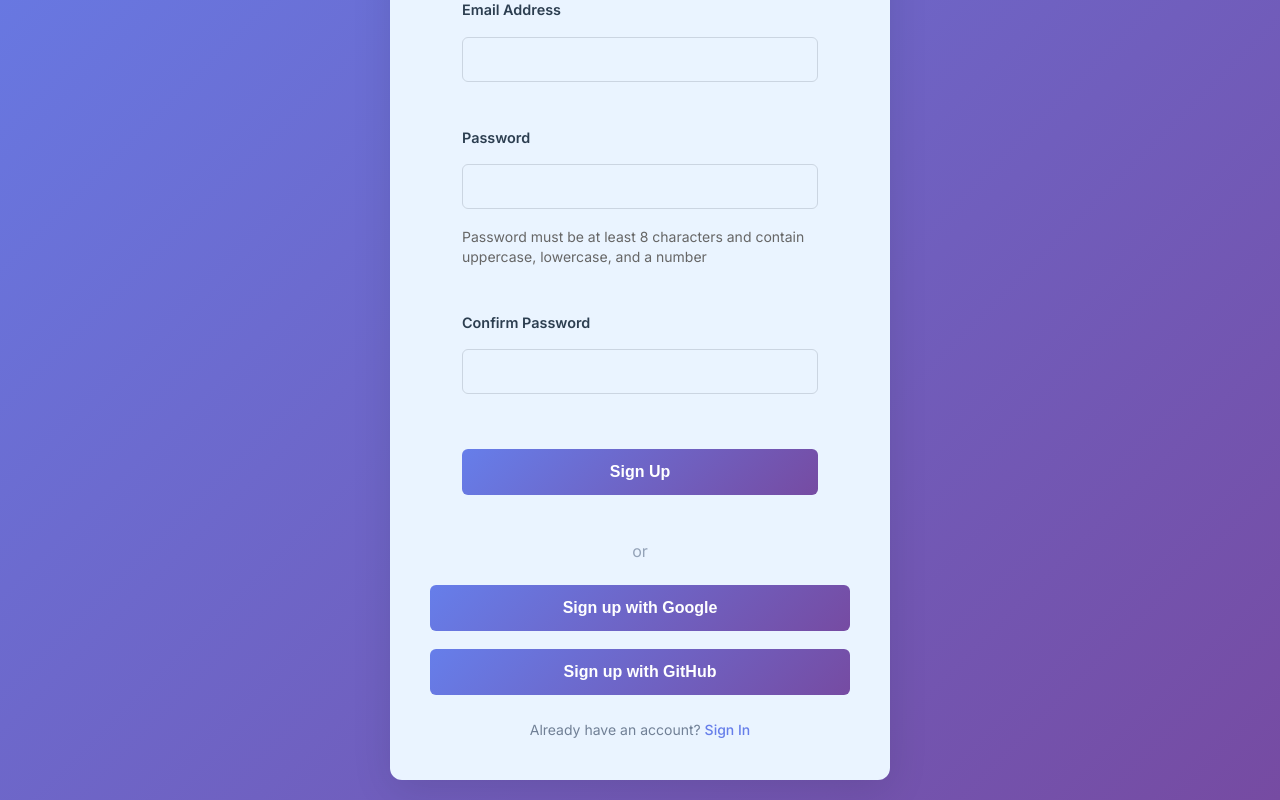
it: Register › shows fallback error for unexpected oauth failure
This screenshot has width=1280, height=800.
(page scrolled)
Click the button "Sign up with Google".
click(640, 608)  # box 430,585 -> 850,631
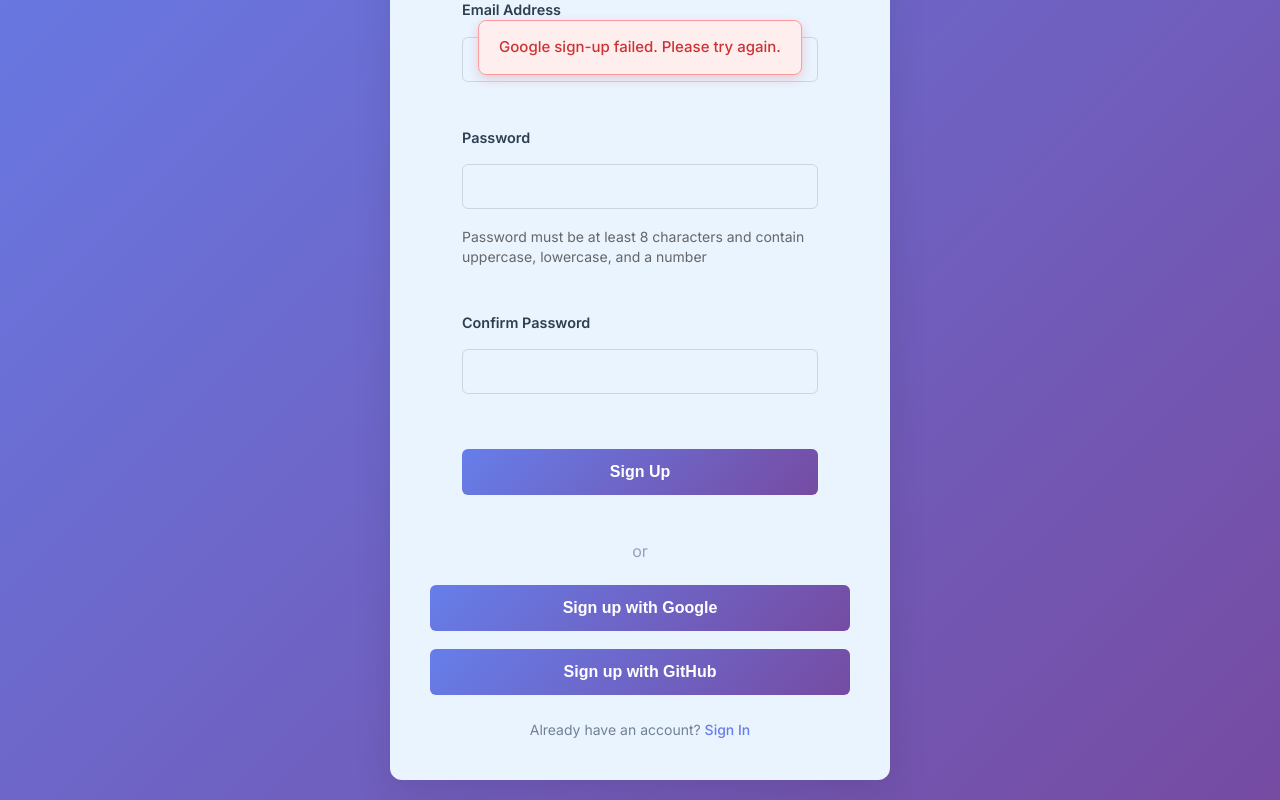
Check: the text "Google sign-up failed. Please try again." is shown, box 478,20 -> 802,74
